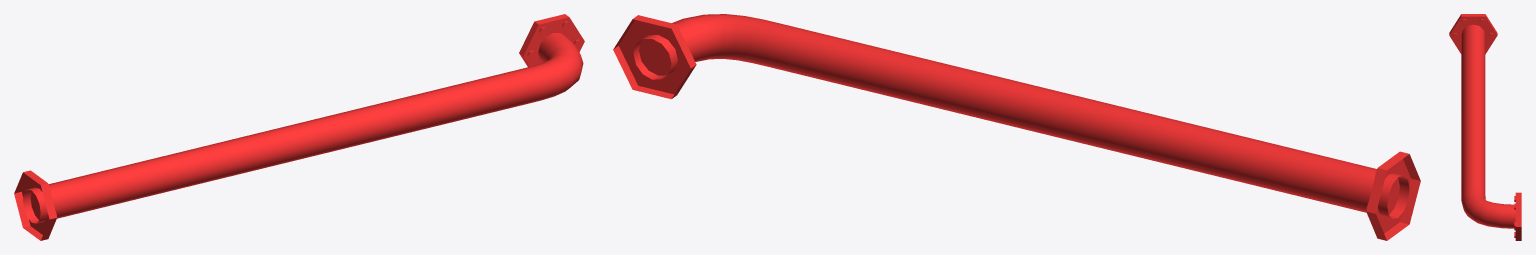
Rendered from J_Pipe.fbx.
3 views of the same model, side by side, from view 1: azimuth 30°, elevation 25°; view 2: azimuth 150°, elevation 25°; view 3: azimuth 270°, elevation 25° (orthographic). The views are drawn at different scales.
Parts seen in each view (by area): view 1: P1; view 2: P1; view 3: P1.
Part boxes in pixels (<box>): P1: <box>14,14,584,240</box>; P1: <box>613,14,1420,240</box>; P1: <box>1449,14,1521,240</box>.
Bounding box in the file's own units: 9.5 × 0.866 × 1.5.
